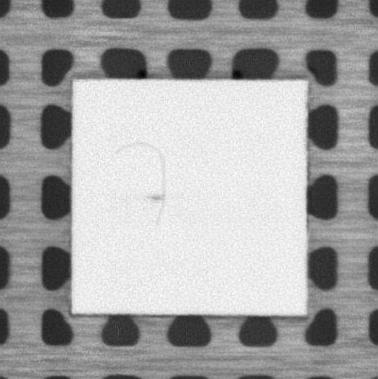DIE_CRACK: (112, 138, 166, 228)
